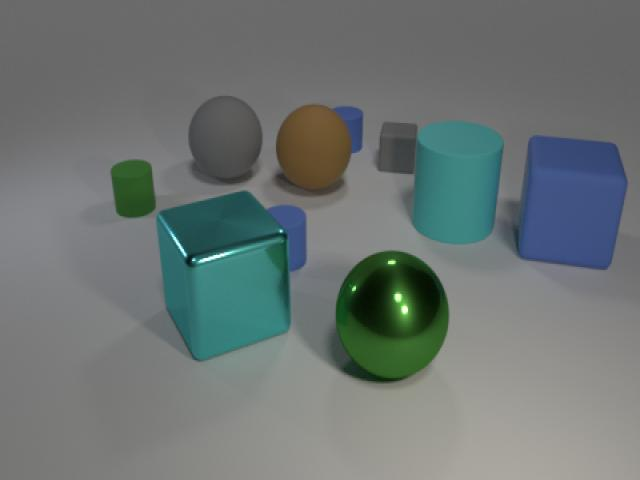cylinder: (409, 114, 506, 244), (260, 196, 316, 277), (107, 153, 159, 221), (328, 102, 367, 158)
round ball: (330, 245, 452, 384), (182, 90, 266, 184), (274, 102, 354, 194)
